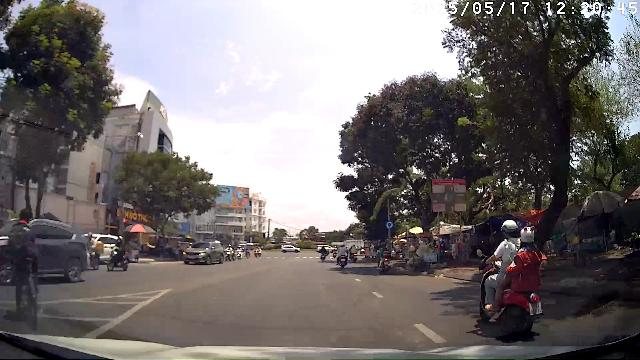303-noi-giao-nhau-chay-theo-vong-xuyen: (386, 222, 394, 228)
